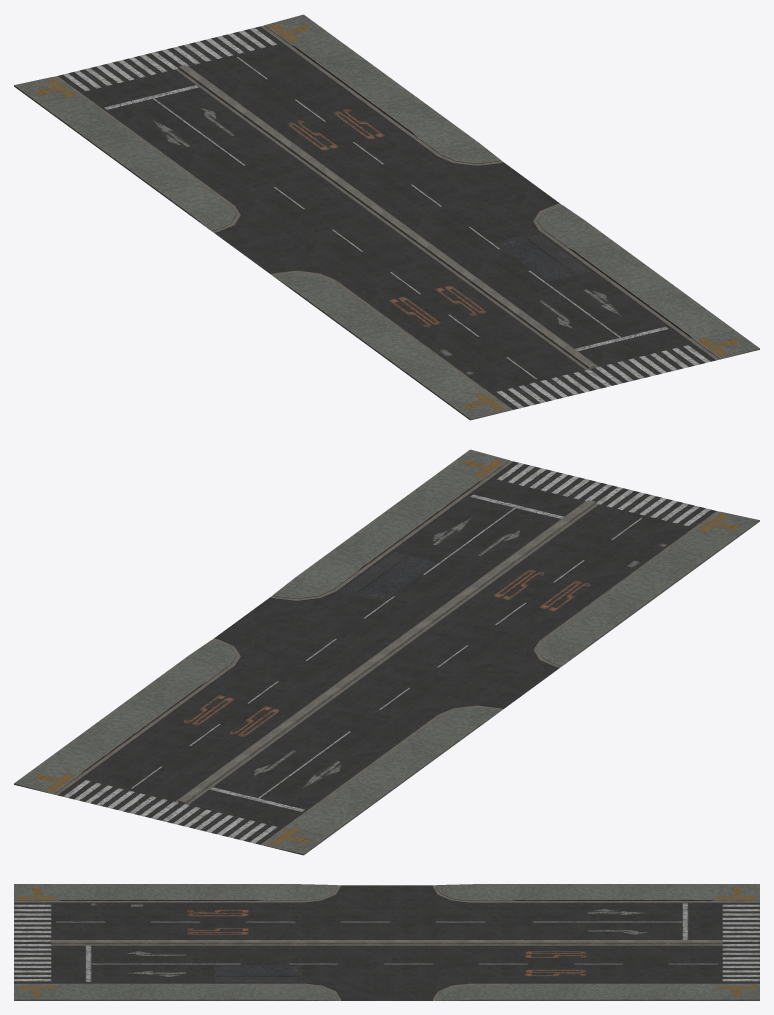
The model's file is jctlowRoad22mB_a.fbx.
3 views of the same model, one above another, from view 1: azimuth 30°, elevation 25°; view 2: azimuth 150°, elevation 25°; view 3: azimuth 270°, elevation 25° (orthographic). The views are drawn at different scales.
Parts seen in each view (by area): view 1: jctlowRoad22mB_a; view 2: jctlowRoad22mB_a; view 3: jctlowRoad22mB_a.
Part boxes in pixels (x1,y1,x2,y2): jctlowRoad22mB_a: [14, 14, 759, 420]; jctlowRoad22mB_a: [14, 449, 759, 855]; jctlowRoad22mB_a: [14, 884, 759, 1000].
Size of the model in its own units: 2200 by 15 by 6000.
4 materials, 4 textured.
